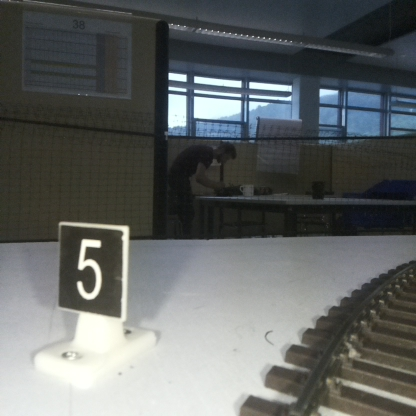black-stop-5: (59, 228, 124, 369)
